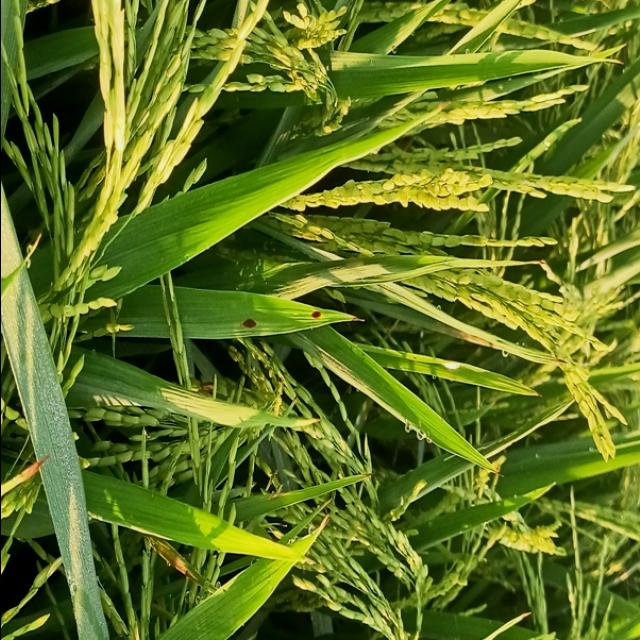brown spot: (238, 316, 262, 332), (308, 305, 324, 321), (348, 314, 365, 322)
